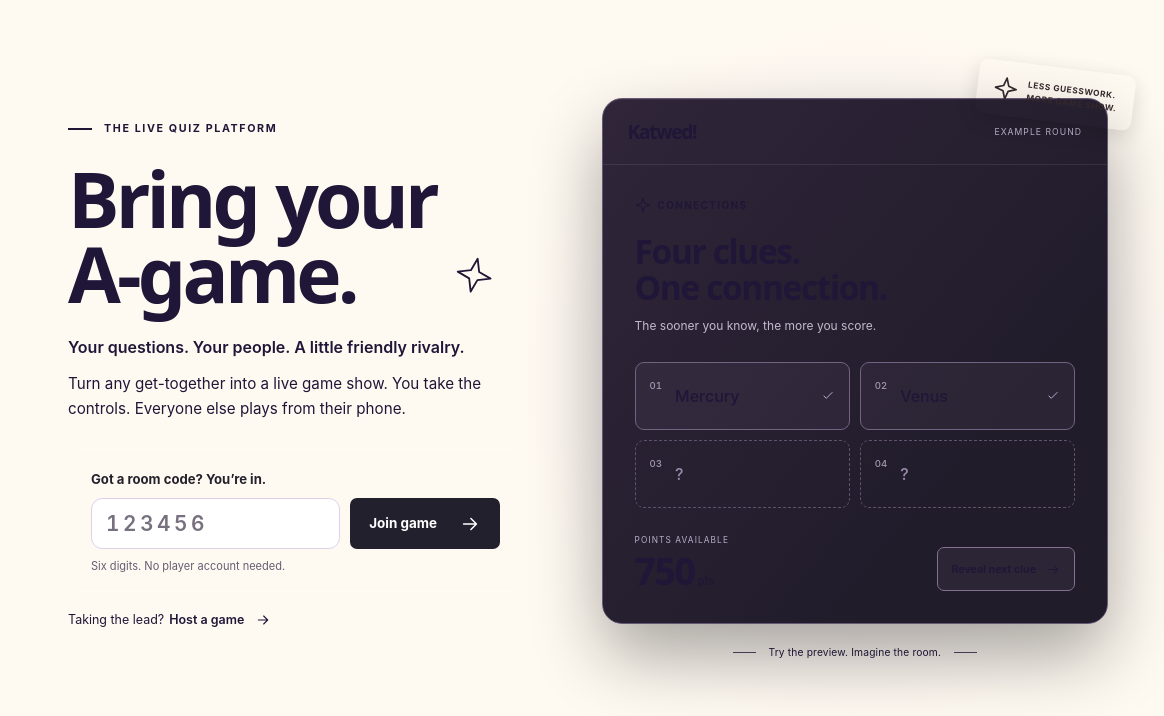
Test: premium Katwed homepage › normalises digits and preserves the established join route and leading zeroes
The image size is (1164, 716).
Step 1. Type "00a 12-34" into the field labelled "room code" → [216, 524], box [91,498,340,549]
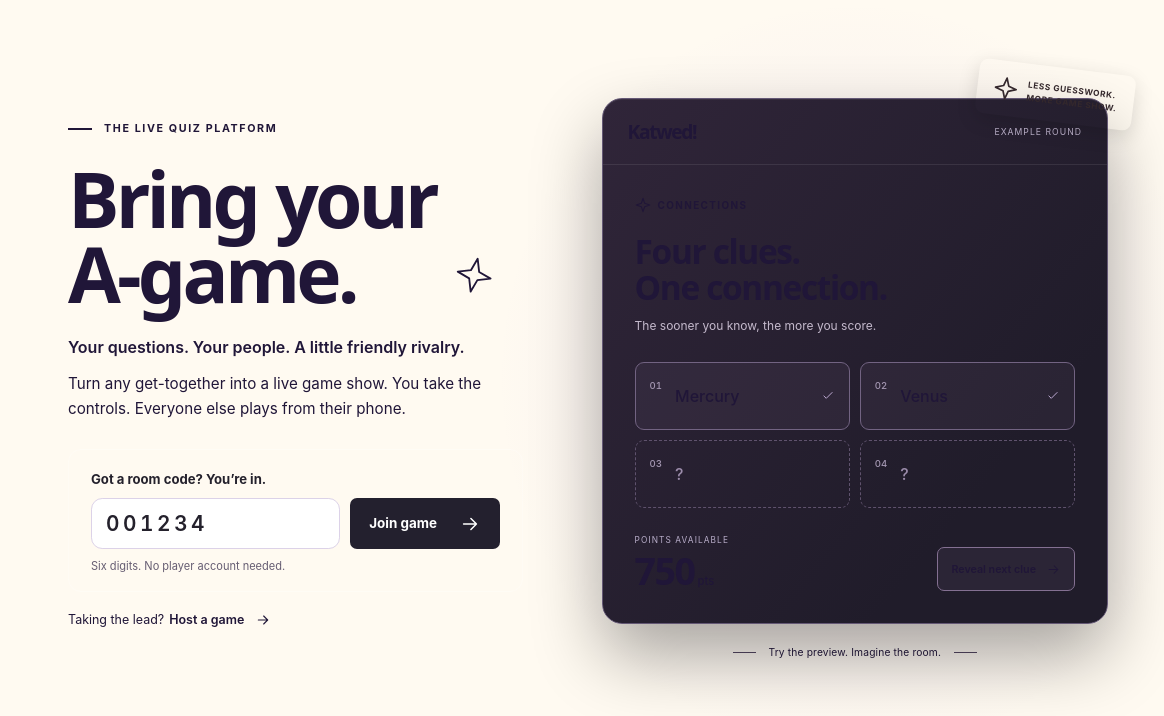
Result: the field labelled "room code" holds "001234" at [91,498,340,549]
Step 2. Submit the form named "Join a game", box [68,449,523,592]
(page scrolled)
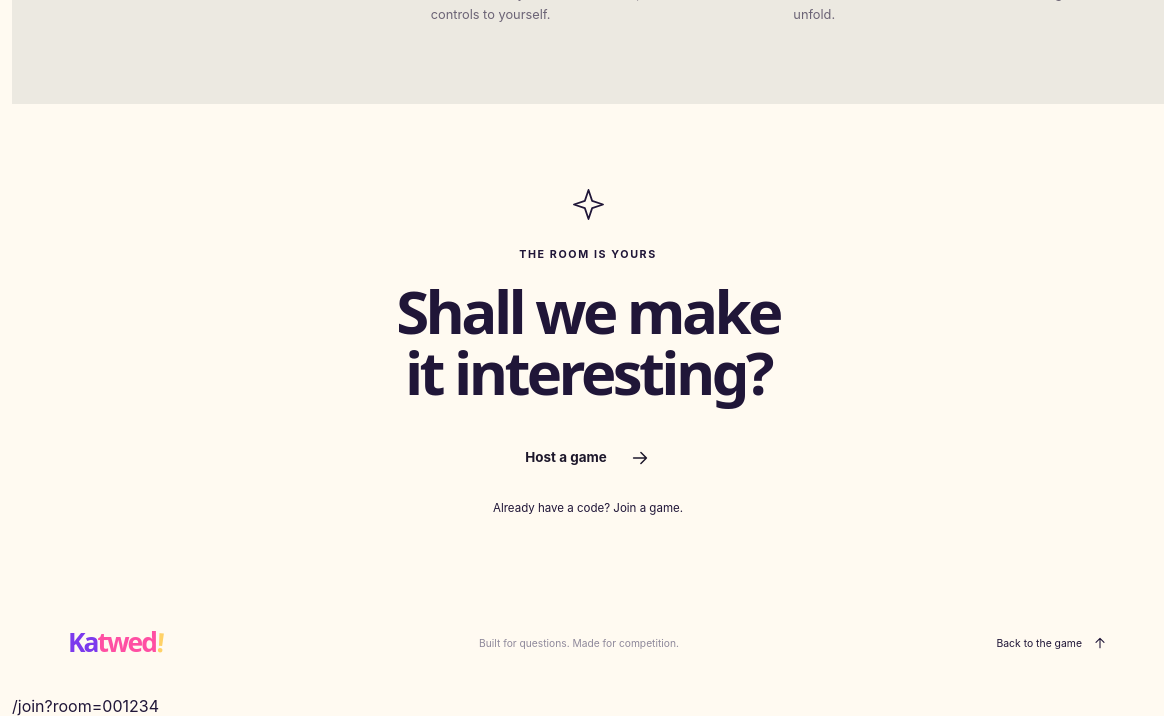
Result: the text with test id "location" reads "/join?room=001234" at [12,696,159,715]
